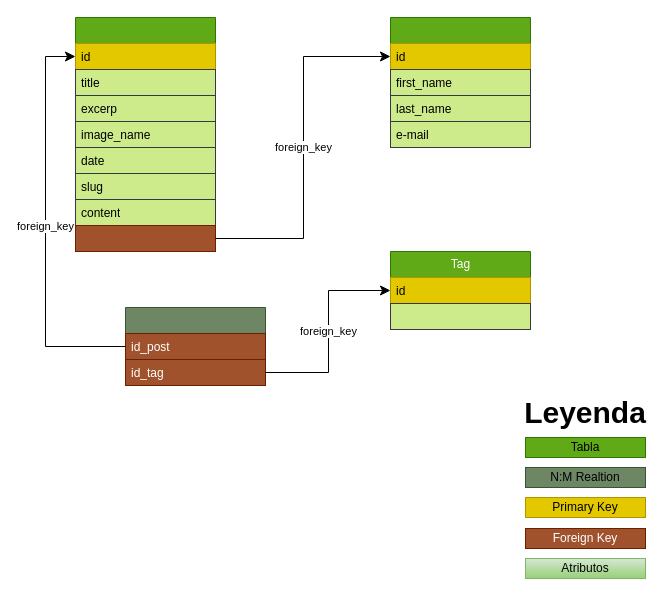
Some shapes in this 664 by 596 pixel diagram are drawn without their labels. The shapes that lost their labels are listed below. From the top down, each one's box as (x1, y1, x2, y2) in pixels, then its label:
(390, 16, 530, 148): Author
(74, 16, 216, 252): Post
(74, 224, 216, 252): id_author
(390, 302, 530, 330): caption
(124, 306, 266, 386): Post-Tag
